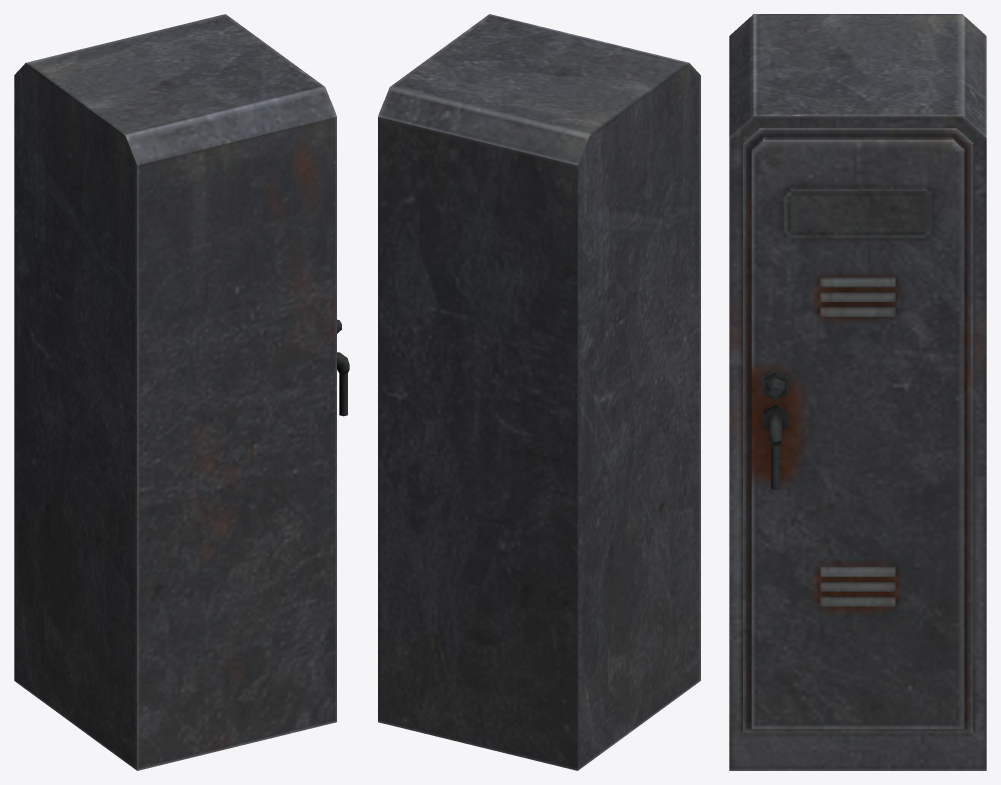
Rendered from Locker.FBX.
3 views of the same model, side by side, from view 1: azimuth 30°, elevation 25°; view 2: azimuth 150°, elevation 25°; view 3: azimuth 270°, elevation 25° (orthographic). The views are drawn at different scales.
Parts seen in each view (by area): view 1: Locker, LockerDoor; view 2: Locker; view 3: LockerDoor, Locker.
Boxes of the visible parts, x1,y1,x2,y2 form: Locker: (14,14,336,770); LockerDoor: (331,101,349,416); Locker: (378,14,700,770); LockerDoor: (743,128,972,732); Locker: (729,14,986,770).
Bounding box in the file's own units: 27.47 × 70.09 × 24.97.
